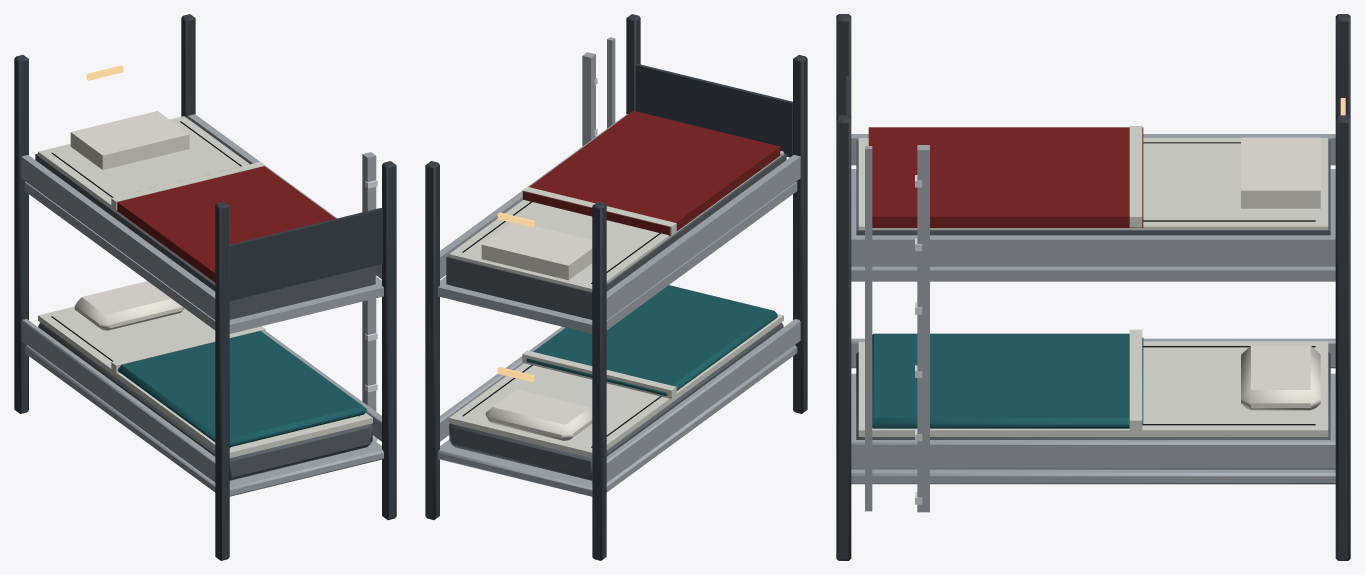
Rendered from bed_bunk_bed.glb.
3 renders of one model, left to right at view 1: azimuth 30°, elevation 25°; view 2: azimuth 150°, elevation 25°; view 3: azimuth 270°, elevation 25°, orthographic. The views are drawn at different scales.
Visible parts, largest first — view 1: bed_bunk_bed; view 2: bed_bunk_bed; view 3: bed_bunk_bed.
Boxes of the visible parts, x1=… form: bed_bunk_bed: x1=14, y1=14, x2=396, y2=560; bed_bunk_bed: x1=425, y1=14, x2=807, y2=560; bed_bunk_bed: x1=836, y1=14, x2=1350, y2=560.
Size of the model in its own units: 1.09 by 1.95 by 2.06.
